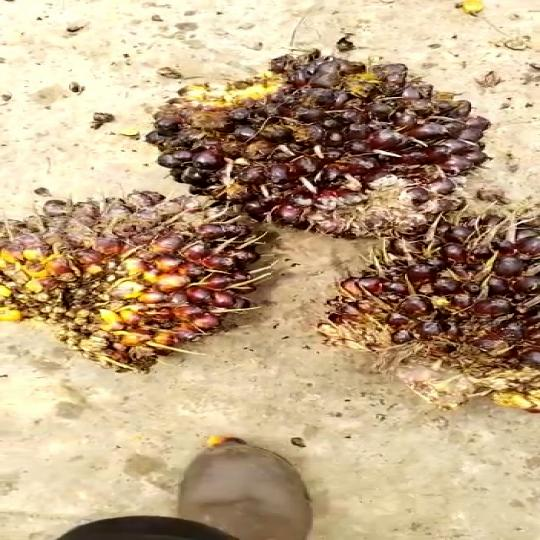kurang masak: (164, 63, 491, 233), (0, 185, 279, 362), (317, 214, 540, 410)
